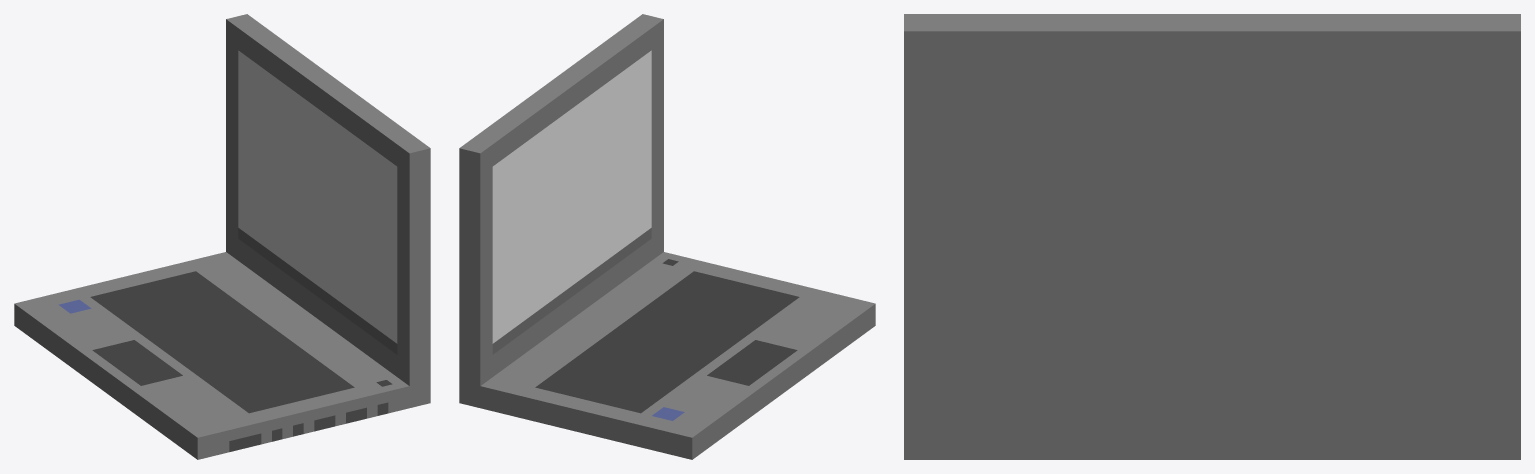
The model's file is SchoolPack-40-computer.obj.
3 views of the same model, side by side, from view 1: azimuth 30°, elevation 25°; view 2: azimuth 150°, elevation 25°; view 3: azimuth 270°, elevation 25° (orthographic). The views are drawn at different scales.
Visible parts, largest first — view 1: computer; view 2: computer; view 3: computer.
Part boxes in pixels (<box>): computer: <box>14,14,430,459</box>; computer: <box>459,14,875,459</box>; computer: <box>904,14,1520,459</box>.
Size of the model in its own units: 2.2 by 2.3 by 3.
1 material, 1 textured.
